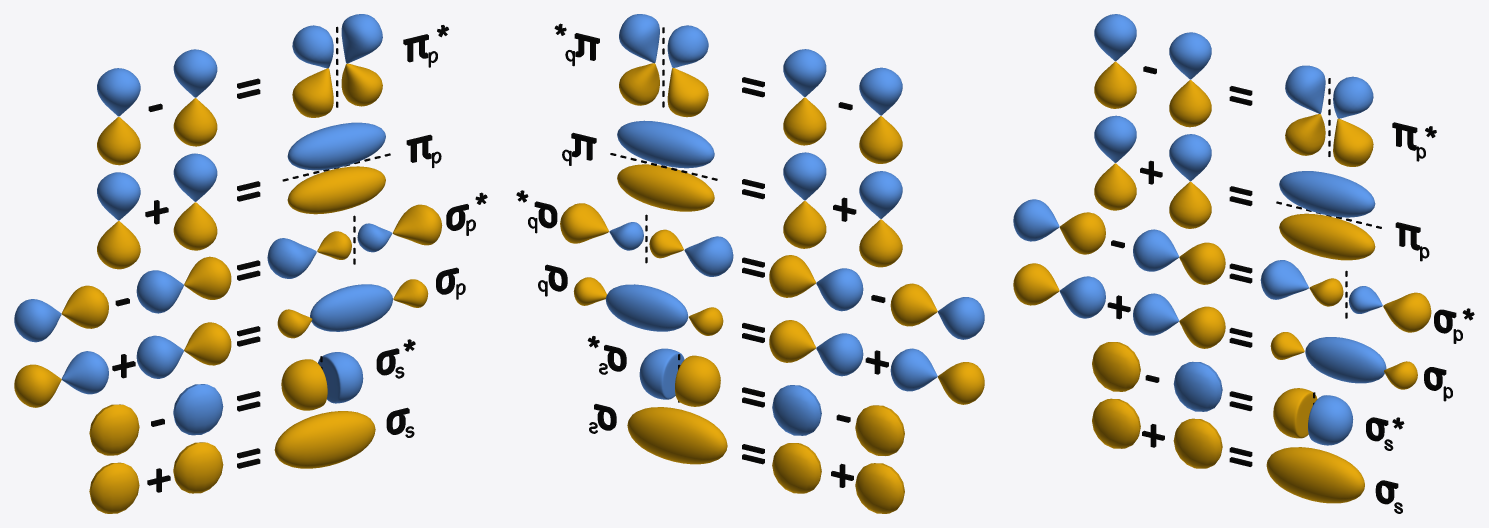
The model's file is molecular_orbital_theory.glb.
The picture shows the model from 3 angles, left to right: view 1: azimuth 30°, elevation 25°; view 2: azimuth 150°, elevation 25°; view 3: azimuth 330°, elevation 25°; orthographic projection. The views are drawn at different scales.
Parts seen in each view (by area): view 1: Box004, Box011, Box010, Box009, Box008, Box005, Box006, Box007, Box001, Box037, Box028, Box029 (+26 smaller); view 2: Box004, Box011, Box010, Box009, Box008, Box005, Box006, Box007, Box001, Box037, Box028, Box029 (+26 smaller); view 3: Box004, Box010, Box011, Box009, Box008, Box007, Box005, Box006, Box037, Box001, Box012, Box030 (+26 smaller).
Part boxes in pixels (x1,y1,x2,y2): Box004: (274, 411, 375, 468); Box011: (287, 122, 385, 170); Box010: (287, 166, 385, 214); Box009: (310, 284, 392, 331); Box008: (173, 442, 223, 493); Box005: (89, 404, 139, 455); Box006: (89, 462, 139, 513); Box007: (173, 384, 223, 435); Box001: (281, 359, 327, 410); Box037: (318, 352, 363, 403); Box028: (292, 68, 333, 117); Box029: (341, 14, 382, 63); Box004: (627, 407, 727, 464); Box011: (617, 120, 714, 168); Box010: (617, 164, 714, 211); Box009: (605, 284, 688, 331); Box008: (772, 443, 821, 493); Box005: (855, 405, 904, 455); Box006: (855, 463, 904, 513); Box007: (772, 385, 821, 435); Box001: (675, 355, 720, 406); Box037: (639, 348, 684, 399); Box028: (667, 68, 708, 117); Box029: (619, 14, 659, 63); Box004: (1266, 447, 1364, 503); Box010: (1279, 213, 1375, 260); Box011: (1279, 171, 1375, 217); Box009: (1305, 337, 1386, 383); Box008: (1173, 418, 1222, 468); Box007: (1173, 361, 1222, 411); Box005: (1092, 342, 1140, 391); Box006: (1092, 398, 1140, 448); Box037: (1308, 395, 1353, 445); Box001: (1273, 388, 1317, 438); Box012: (1285, 65, 1325, 113); Box030: (1333, 118, 1373, 166).
Bounding box in the file's own units: 12.49 × 11.31 × 1.18.
